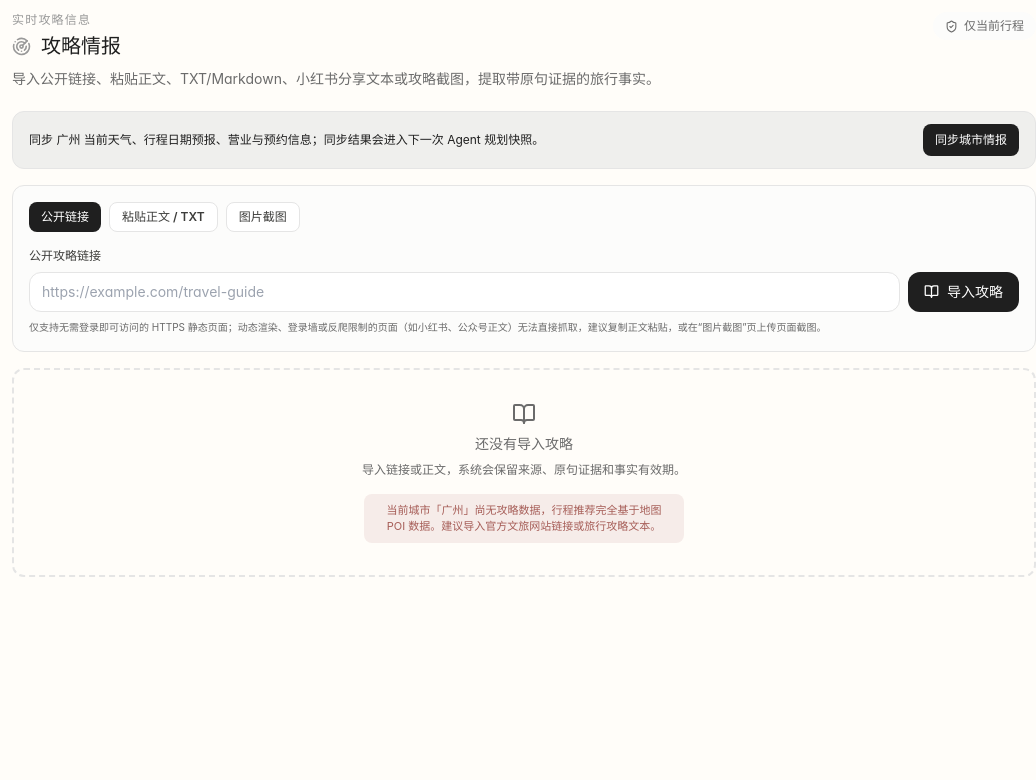
Test: shows a localized in-place error and recovers the sync button on failure (B14_FIX R1)
Click the button "同步城市情报": (971, 140) [923,124,1019,156]
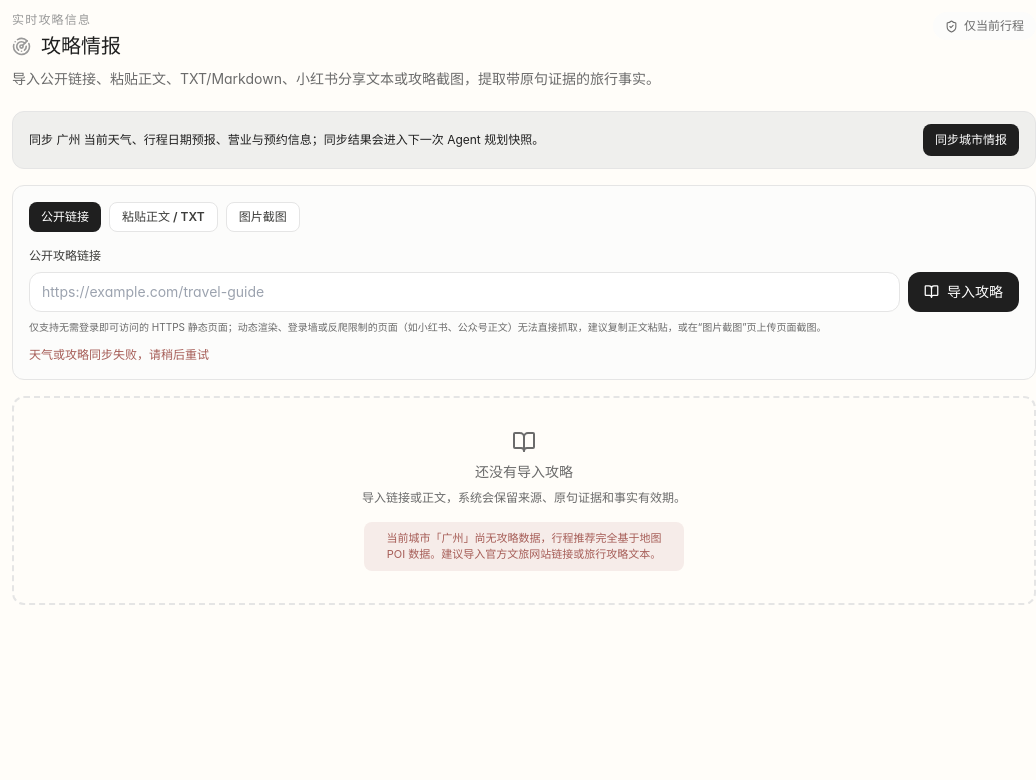
expect the message reads "天气或攻略同步失败，请稍后重试": met, box [29,347,209,362]
